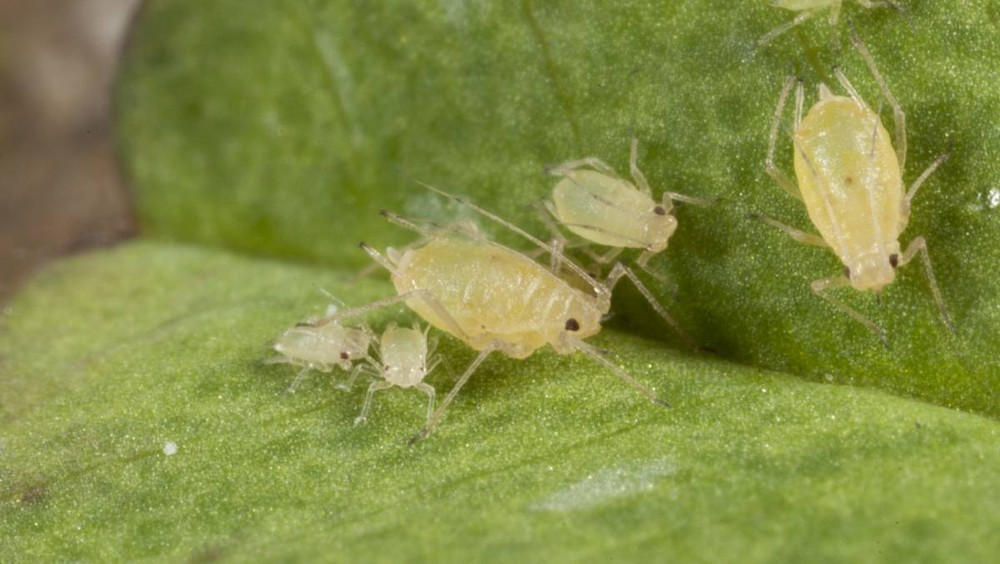Pulgon: (739, 59, 976, 351), (358, 214, 637, 413), (513, 137, 717, 284), (356, 316, 450, 430), (262, 304, 371, 379)
